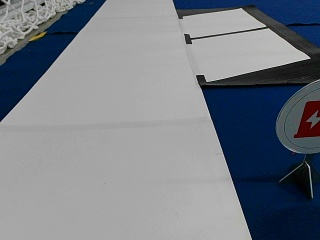battery: (276, 79, 319, 154)
